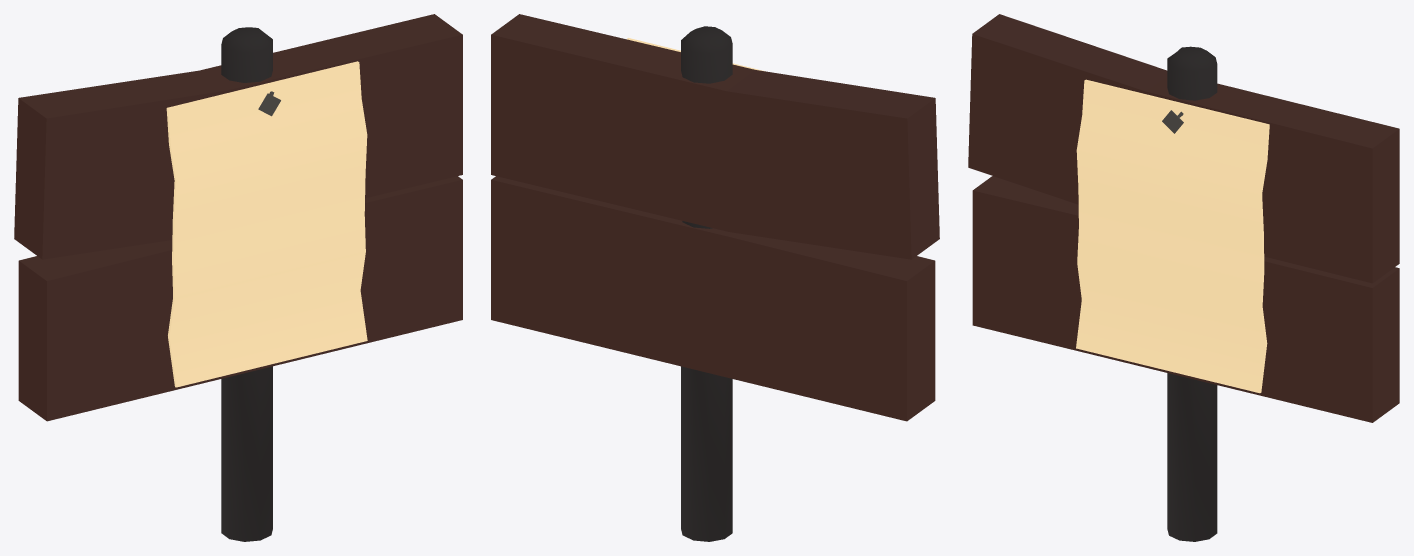
The model's file is Sign.glb.
3 renders of one model, left to right at view 1: azimuth 30°, elevation 25°; view 2: azimuth 150°, elevation 25°; view 3: azimuth 330°, elevation 25°, orthographic. The views are drawn at different scales.
Visible parts, largest first — view 1: Plane; view 2: Plane; view 3: Plane.
Boxes of the visible parts, x1,y1,x2,y2 form: Plane: [14, 14, 462, 541]; Plane: [491, 14, 939, 541]; Plane: [968, 14, 1399, 541].
Size of the model in its own units: 1.42 by 1.61 by 0.2306.
